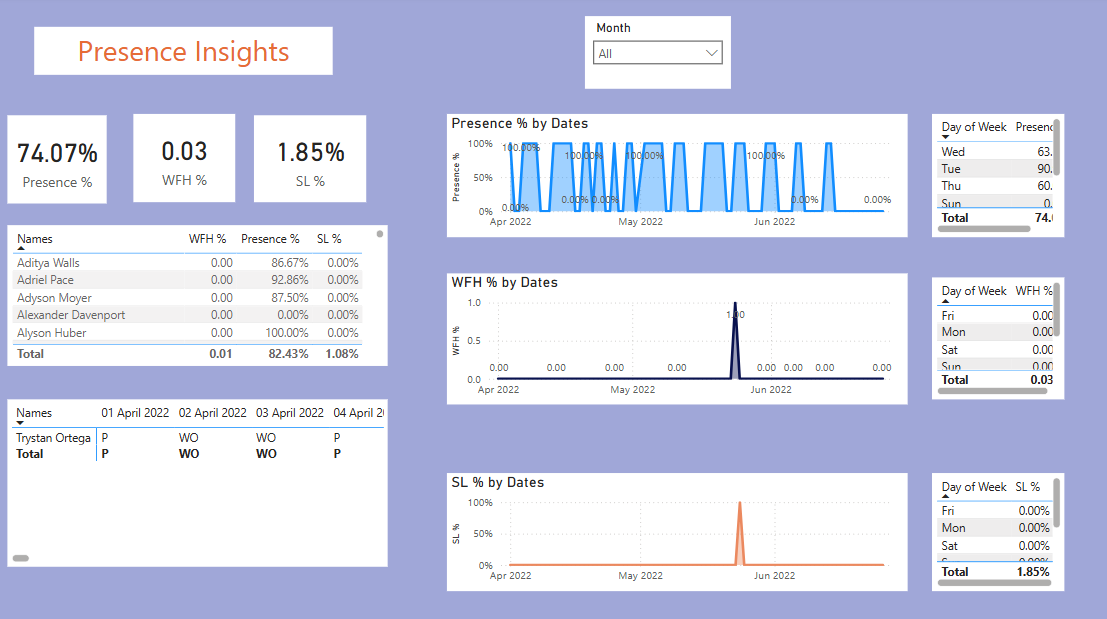

This screenshot's page, from the dashboard's own definition file:
{"tool":"powerbi","page":{"name":"Page 1","canvas":[1280,720],"ordinal":0},"visuals":[{"type":"card","fields":{"Values":["Measure Table.SL %"]},"box":[299,137.2,129.4,100.2],"z":0},{"type":"card","fields":{"Values":["Measure Table.WFH %"]},"box":[160.3,135.6,117.1,101.7],"z":1000},{"type":"card","fields":{"Values":["Final Data.Presence %"]},"box":[15.4,137.2,114,101.7],"z":2000},{"type":"slicer","fields":{"Values":["Final Data.Month"]},"box":[679.6,23.1,168,83.2],"z":3000},{"type":"tableEx","fields":{"Values":["Final Data.Names","Measure Table.WFH %","Final Data.Presence %","Measure Table.SL %"]},"box":[15.4,263.5,437.7,161.8],"z":4000},{"type":"textbox","box":[46.2,35.4,343.7,55.5],"z":5000},{"type":"pivotTable","fields":{"Rows":["Final Data.Names"],"Values":["Min(Final Data.Value)"],"Columns":["Final Data.Dates"]},"box":[15.4,463.9,437.7,192.6],"z":6000},{"type":"areaChart","fields":{"Y":["Final Data.Presence %"],"Category":["Final Data.Dates"]},"box":[520.9,135.6,530.1,141.8],"z":7000},{"type":"areaChart","fields":{"Y":["Measure Table.WFH %"],"Category":["Final Data.Dates"]},"box":[520.9,319,530.1,151],"z":8000},{"type":"areaChart","fields":{"Y":["Measure Table.SL %"],"Category":["Final Data.Dates"]},"box":[520.9,548.6,530.1,135.6],"z":9000},{"type":"tableEx","fields":{"Values":["Final Data.Day of Week","Final Data.Presence %"]},"box":[1078.7,135.6,152.6,141.8],"z":10000},{"type":"tableEx","fields":{"Values":["Final Data.Day of Week","Measure Table.WFH %"]},"box":[1078.7,323.6,152.6,140.2],"z":11000},{"type":"tableEx","fields":{"Values":["Final Data.Day of Week","Measure Table.SL %"]},"box":[1078.7,548.6,152.6,135.6],"z":12000}]}

Visuals, with their boxes in screenshot pixels (x1, y1, x2, y2), scaled from the page's 1280x720 canvas onto the 1107x619 screenshot:
card - Measure Table.SL %: 259:118:370:204
card - Measure Table.WFH %: 139:117:240:204
card - Final Data.Presence %: 13:118:112:205
slicer - Final Data.Month: 588:20:733:91
tableEx - Final Data.Names x Measure Table.WFH %: 13:227:392:366
textbox: 40:30:337:78
pivotTable - Final Data.Names x Min(Final Data.Value): 13:399:392:564
areaChart - Final Data.Presence % x Final Data.Dates: 450:117:909:238
areaChart - Measure Table.WFH % x Final Data.Dates: 450:274:909:404
areaChart - Measure Table.SL % x Final Data.Dates: 450:472:909:588
tableEx - Final Data.Day of Week x Final Data.Presence %: 933:117:1065:238
tableEx - Final Data.Day of Week x Measure Table.WFH %: 933:278:1065:399
tableEx - Final Data.Day of Week x Measure Table.SL %: 933:472:1065:588
